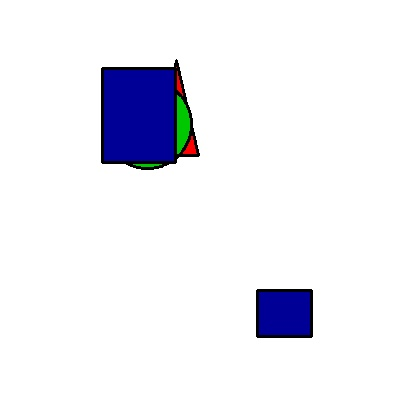circle: (93, 80, 201, 169)
rectangle: (102, 68, 175, 162), (257, 290, 311, 336)
triangle: (155, 60, 198, 155)
